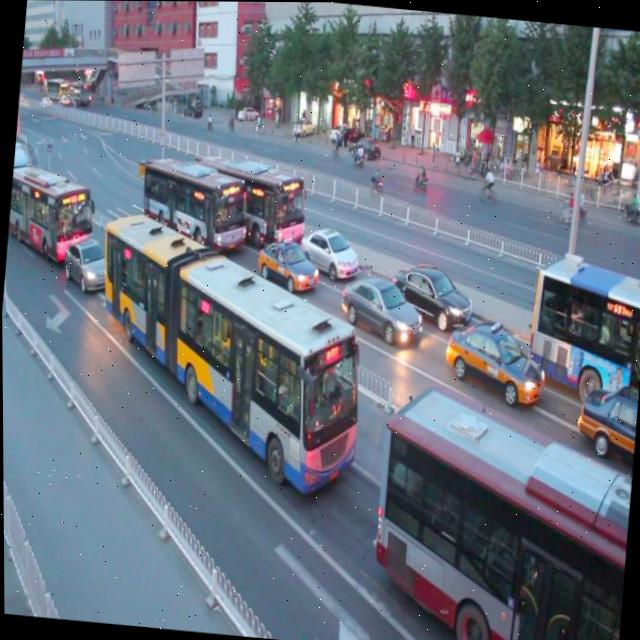car: (439, 311, 548, 411), (334, 265, 421, 347), (389, 254, 474, 330), (573, 375, 639, 454), (251, 228, 319, 294), (294, 216, 359, 281), (60, 232, 116, 294)
van: (81, 203, 374, 496), (364, 381, 638, 640), (521, 248, 640, 398), (134, 146, 251, 260), (191, 144, 309, 251), (6, 156, 95, 255)
